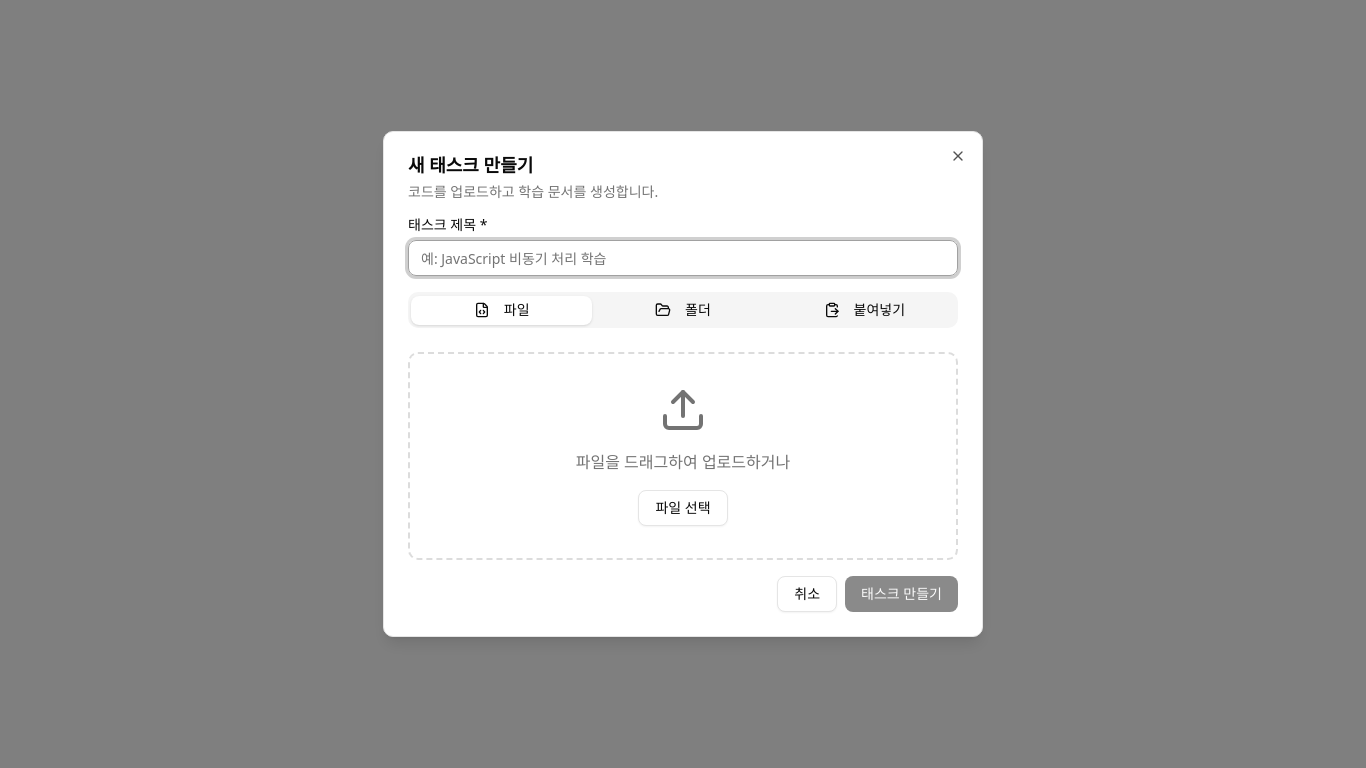
Test: CreateTaskModal › paste code › enables submit when title and code are provided
Click the tab "붙여넣기" at (864, 310), box [774,296,955,324]
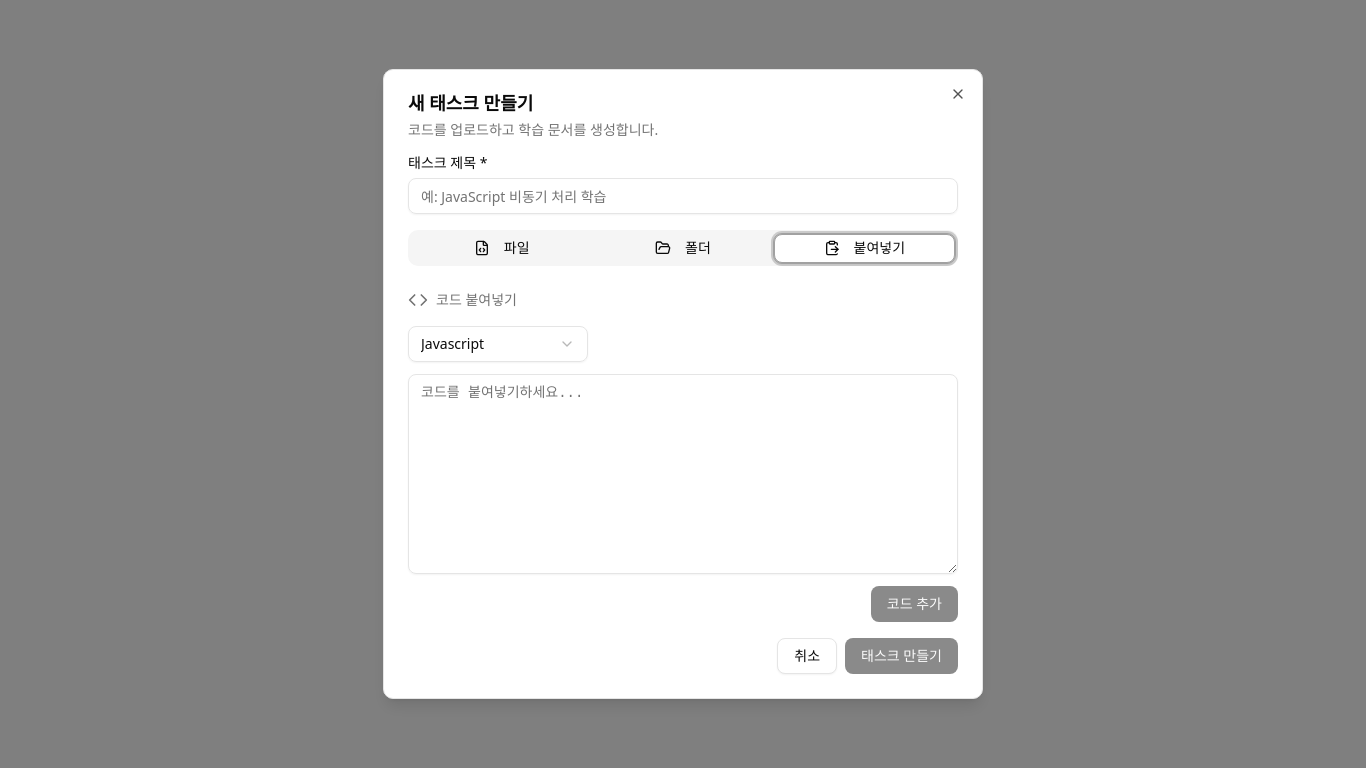
Type "My Task" into the field labelled "태스크 제목 *" at (683, 196), box [408,178,958,214]
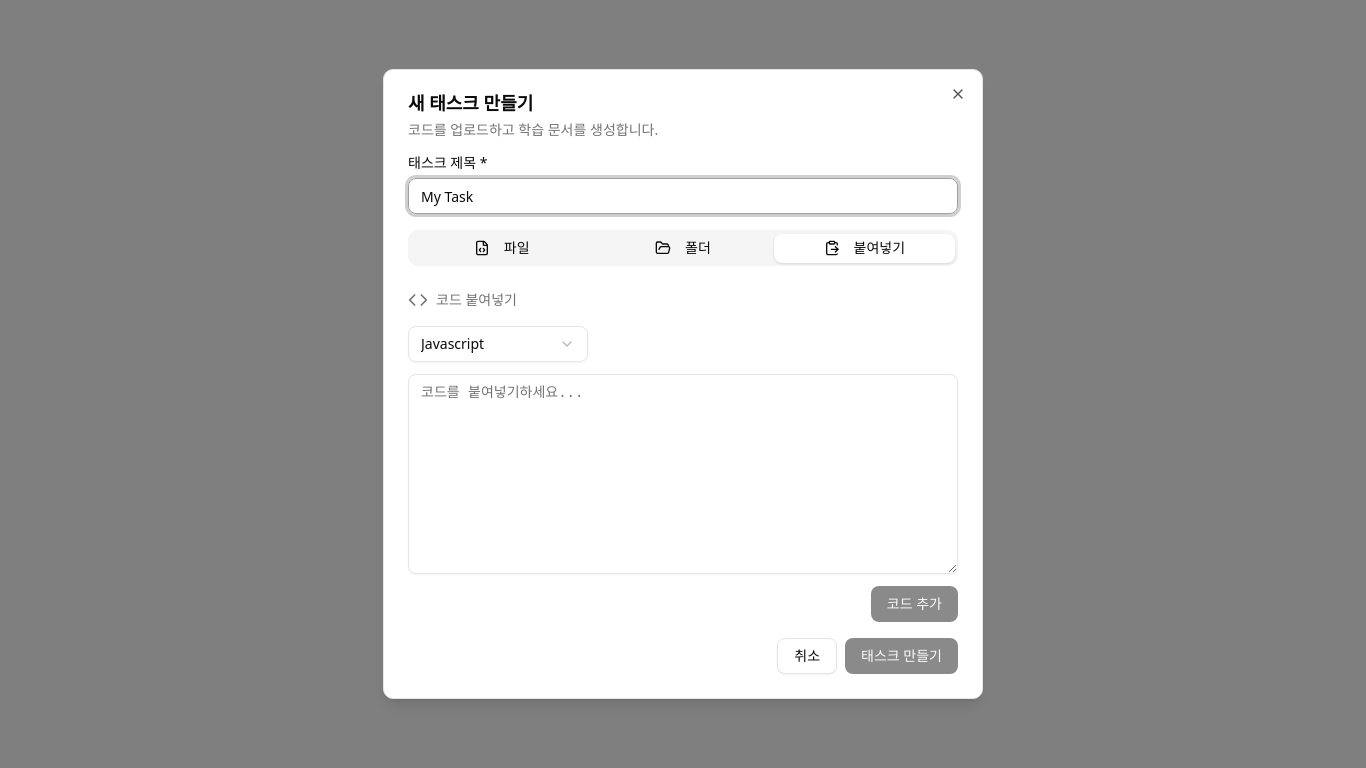
Type "console.log(\"hello\")" into the text box with placeholder "코드를 붙여넣기하세요..." at (683, 474), box [408,374,958,574]
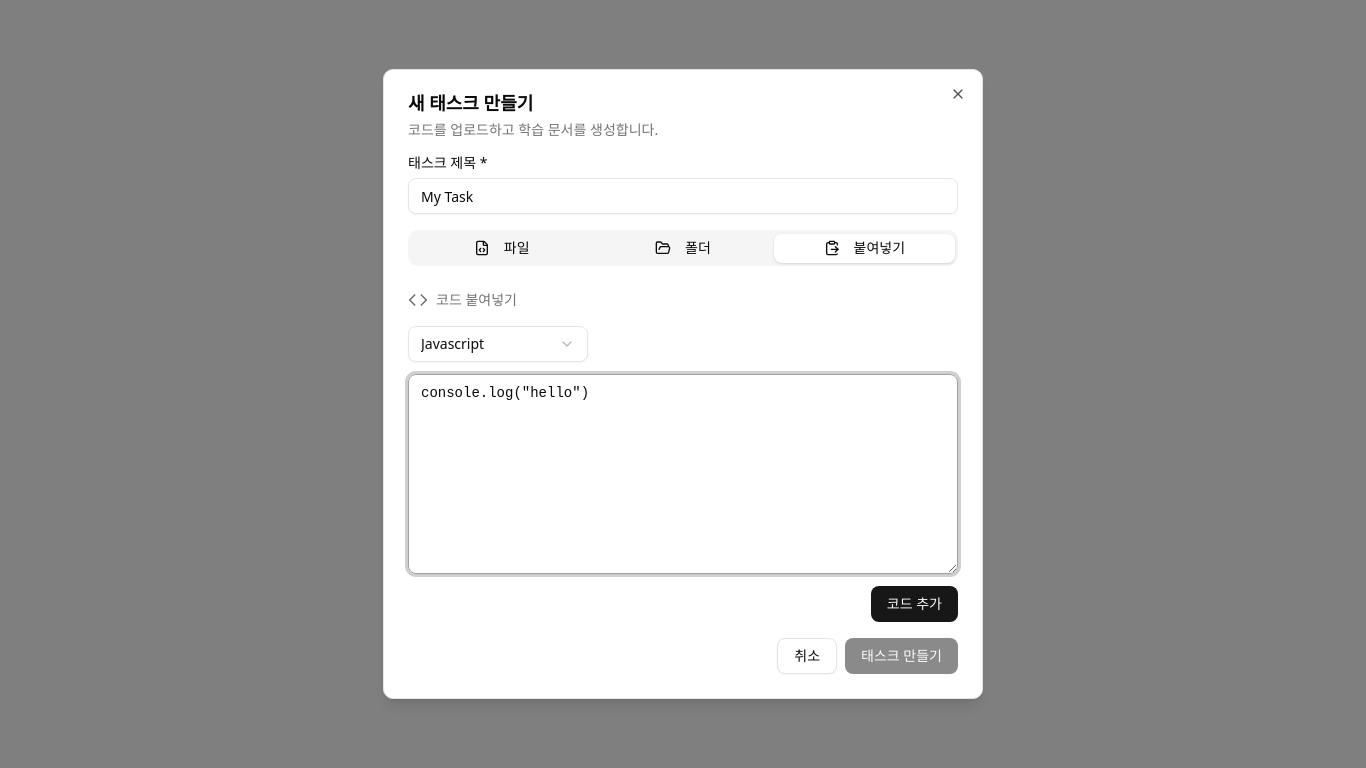
Click the "코드 추가" button to confirm the pasted code
Click the button "코드 추가" at (914, 604), box [871,586,958,622]
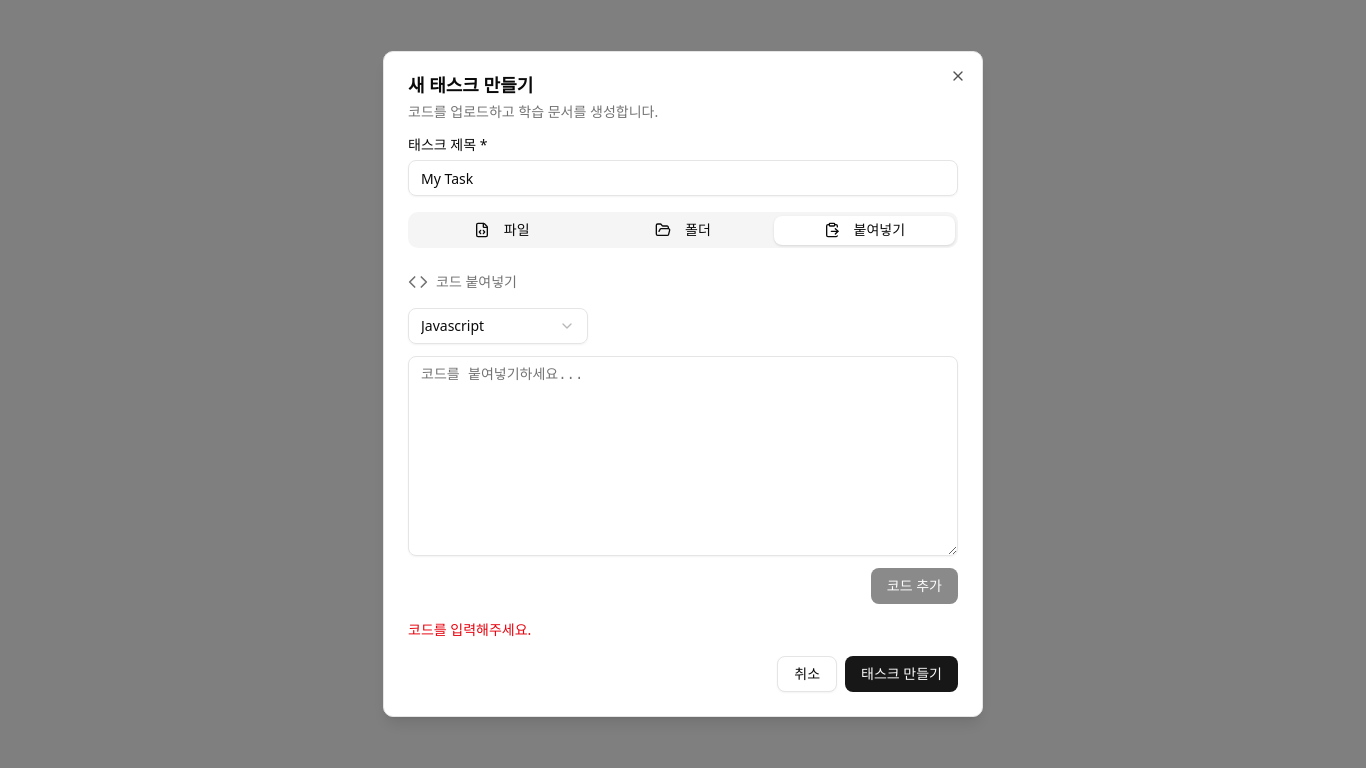
Result: the button "태스크 만들기" is enabled at [845,656,958,692]
